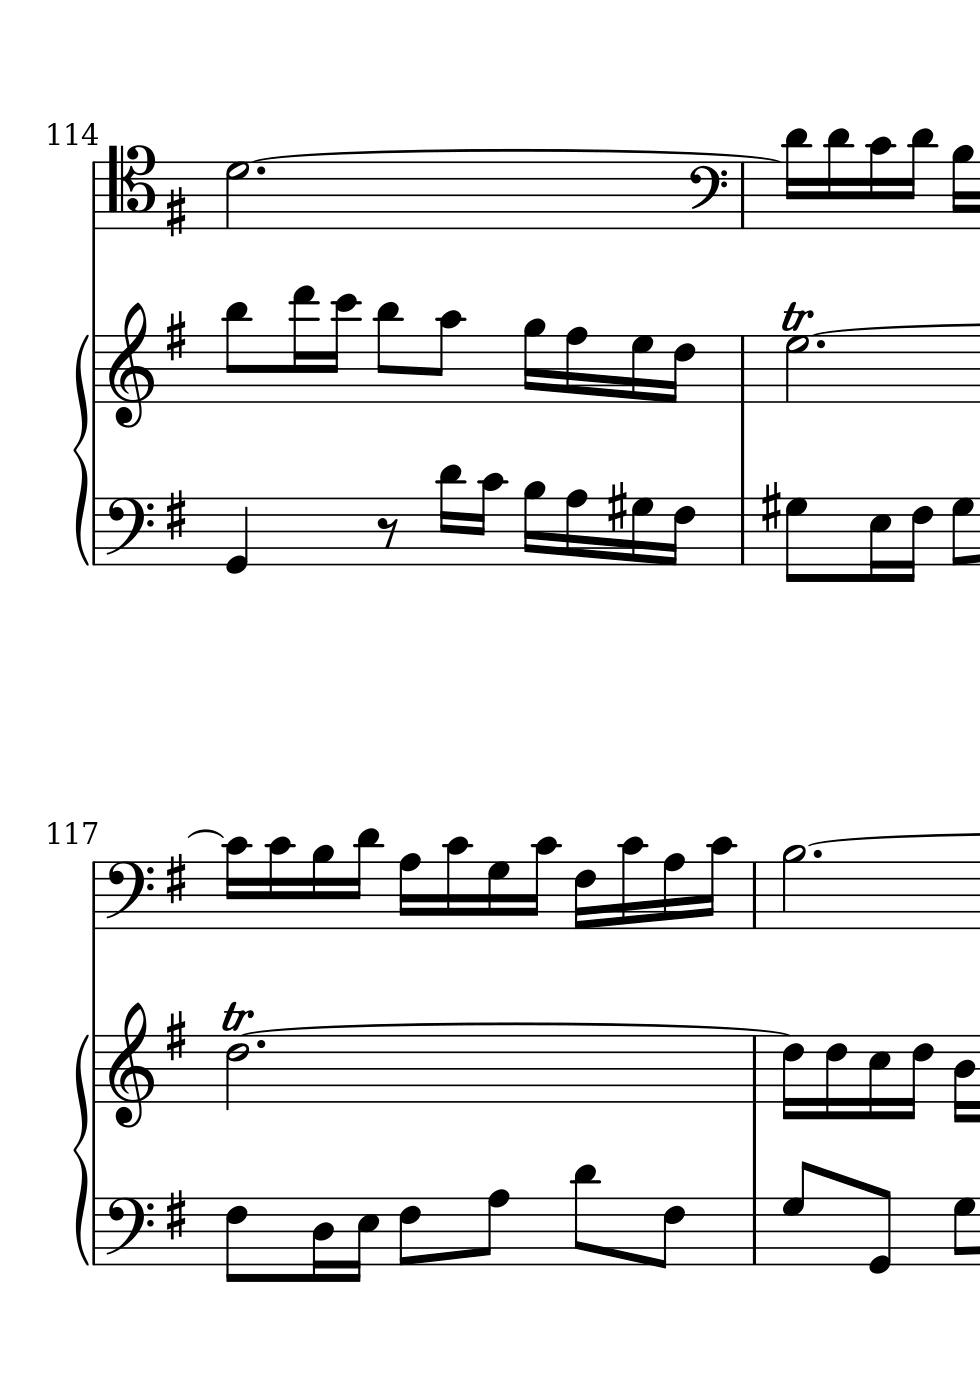1: (45, 121, 62, 150), (46, 819, 62, 848), (63, 819, 78, 848), (63, 121, 78, 150)
16_10: (524, 835, 560, 932), (700, 835, 735, 932), (474, 472, 507, 568), (220, 835, 251, 932), (265, 835, 294, 931), (442, 835, 471, 931), (617, 835, 646, 930), (865, 134, 893, 231)
16_11: (347, 826, 381, 931), (902, 127, 935, 231), (778, 128, 810, 232), (823, 127, 852, 232), (435, 462, 463, 567)
16_12: (323, 293, 360, 405)
16_13: (288, 283, 318, 404)
16_4: (310, 1195, 335, 1285), (952, 1033, 977, 1125)
16_5: (348, 1196, 380, 1284), (867, 495, 892, 583), (865, 1033, 891, 1121)
16_6: (900, 1032, 935, 1121), (902, 495, 934, 584), (823, 1032, 848, 1121), (665, 332, 696, 405), (664, 495, 695, 568), (780, 1033, 804, 1121), (572, 859, 597, 932)
16_7: (484, 858, 510, 932), (628, 333, 653, 406), (629, 494, 653, 568)
16_8: (396, 852, 422, 931), (660, 852, 686, 931), (563, 326, 588, 405), (563, 488, 587, 567)
16_9: (309, 844, 335, 931), (521, 479, 545, 567), (950, 144, 975, 231), (521, 317, 545, 404)
2_6: (224, 1034, 250, 1113)
2_7: (221, 159, 250, 232), (782, 333, 810, 405)
2_9: (778, 843, 805, 931)
4: (78, 121, 101, 150)
4_0: (224, 495, 250, 576)
7: (81, 819, 99, 848)
8_0: (865, 1185, 894, 1277)
8_10: (428, 309, 462, 404)
8_11: (571, 1162, 600, 1268), (223, 300, 249, 405), (373, 299, 400, 404)
8_6: (222, 1195, 249, 1285), (653, 1195, 685, 1270), (397, 1196, 422, 1268)
8_7: (780, 1159, 812, 1267), (783, 496, 808, 584), (950, 496, 974, 568), (951, 1195, 975, 1266)
8_8: (476, 1187, 509, 1267)
Brace: (72, 330, 91, 565), (73, 1030, 88, 1270)
Fclef: (103, 496, 157, 569), (103, 860, 156, 932), (103, 1195, 154, 1267), (687, 161, 728, 232)
Gclef: (106, 1001, 155, 1129), (107, 302, 156, 429)
Mordent: (220, 999, 256, 1033)
Rests8: (374, 515, 399, 550)
Sharp: (161, 487, 189, 544), (162, 1188, 188, 1243), (163, 852, 188, 907), (603, 480, 628, 533), (164, 309, 187, 363), (759, 481, 782, 533), (165, 185, 187, 239), (165, 1008, 186, 1064)
Single_barline: (745, 1197, 764, 1265), (745, 1038, 763, 1103), (85, 162, 102, 229), (746, 863, 763, 928), (734, 164, 750, 229), (735, 497, 750, 565), (86, 862, 101, 930), (735, 336, 750, 403), (88, 336, 102, 403), (88, 1036, 102, 1103), (89, 498, 102, 566), (89, 1199, 102, 1265)
Slur: (186, 828, 224, 840)
Tensor_Cclef: (105, 144, 156, 231)
Trill: (778, 299, 813, 332)
dot: (809, 848, 824, 862), (253, 164, 267, 178), (813, 338, 827, 352), (253, 1038, 267, 1051)
